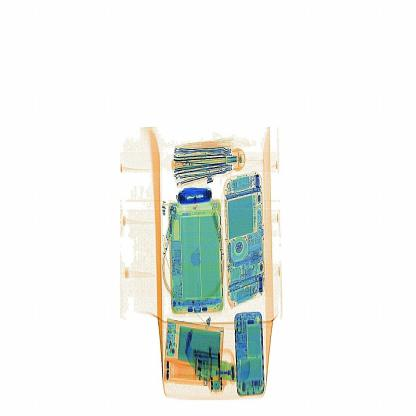scissors: (174, 179, 225, 211)
